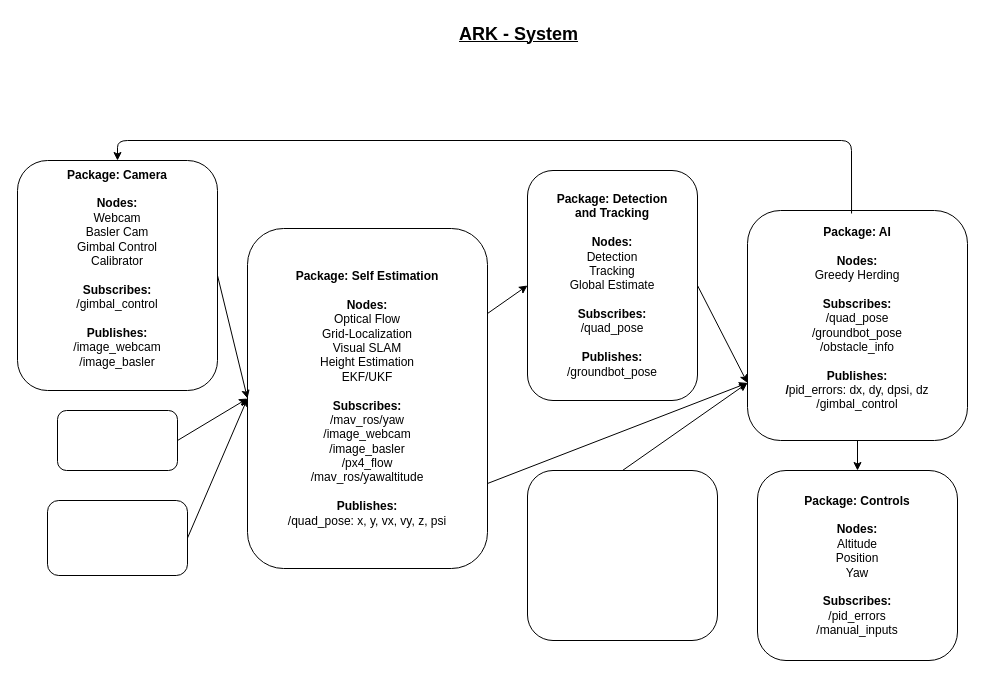
Some shapes in this 985 by 678 pixel diagram are drawn without their labels. Here are the shapes that lost their labels. From the top down, the centre of each, then its label:
At pixel 117 440: "Package: px4_flow".
At pixel 117 538: "Package: mav_ros".
At pixel 622 555: "Package: Obstacle Detection Nodes: Arduino_Sensors Publishes: /obstacle_info".
